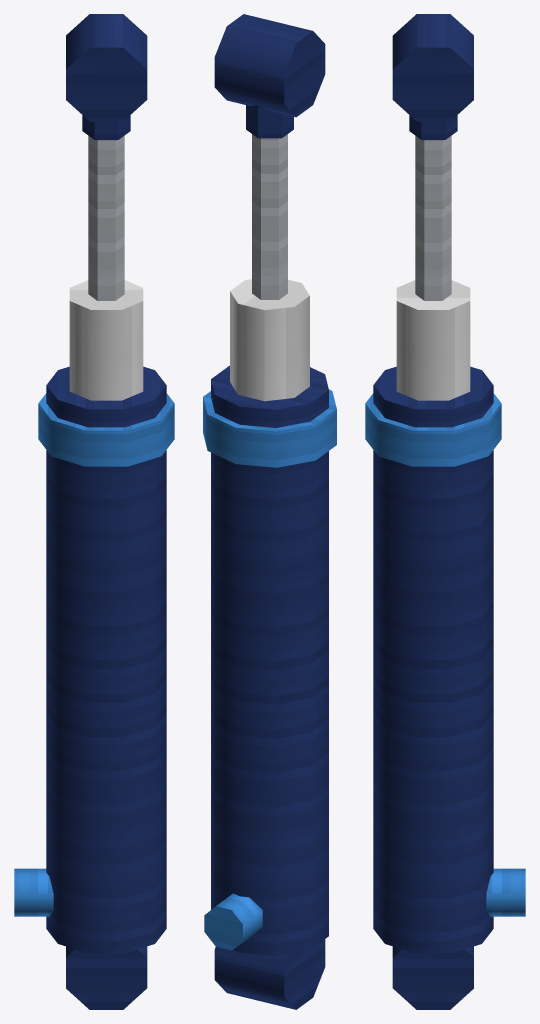
Rendered from amortecedores_n2.glb.
The picture shows the model from 3 angles, left to right: view 1: azimuth 90°, elevation 25°; view 2: azimuth 150°, elevation 25°; view 3: azimuth 270°, elevation 25°; orthographic projection.
Parts seen in each view (by area): view 1: amortecedores_n2; view 2: amortecedores_n2; view 3: amortecedores_n2.
Part boxes in pixels (x1,y1,x2,y2): amortecedores_n2: (14, 14, 174, 1009); amortecedores_n2: (203, 14, 336, 1009); amortecedores_n2: (365, 14, 525, 1009).
Bounding box in the file's own units: 0.0647 × 0.5307 × 0.08.
Materials: 3 (3 with a texture image).
